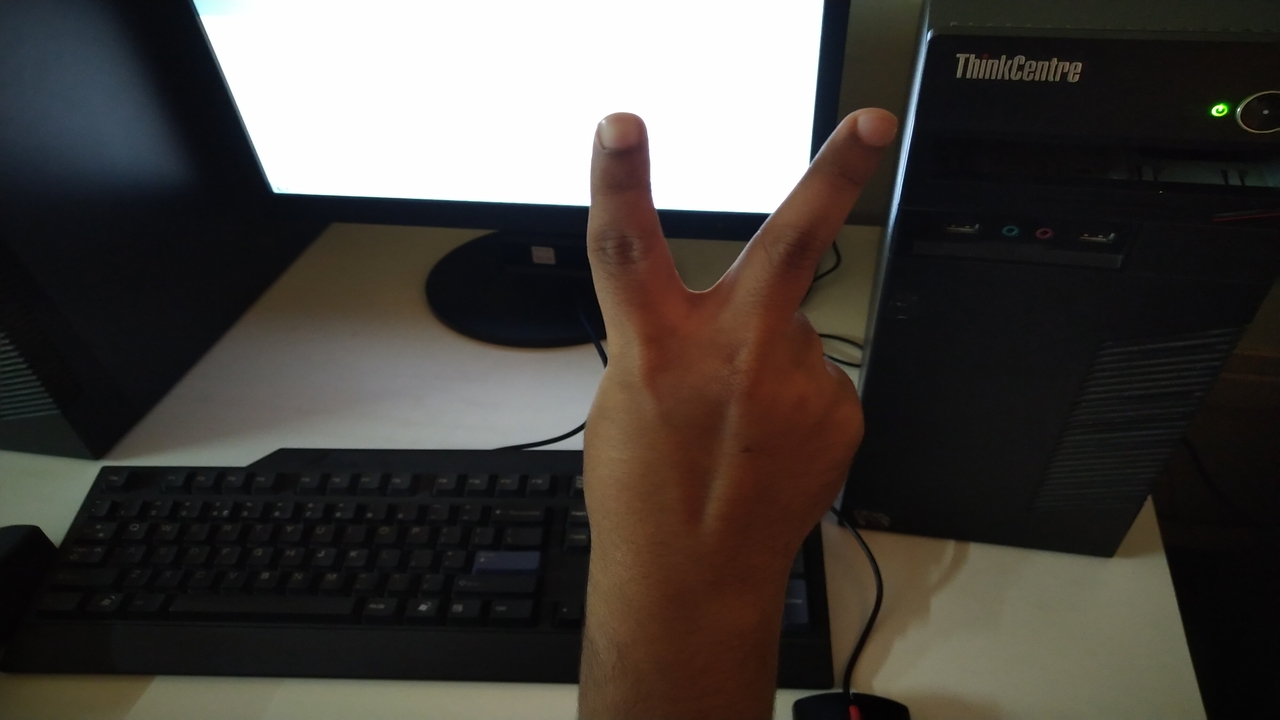fingertip: (832, 100, 900, 160), (586, 112, 652, 162)
